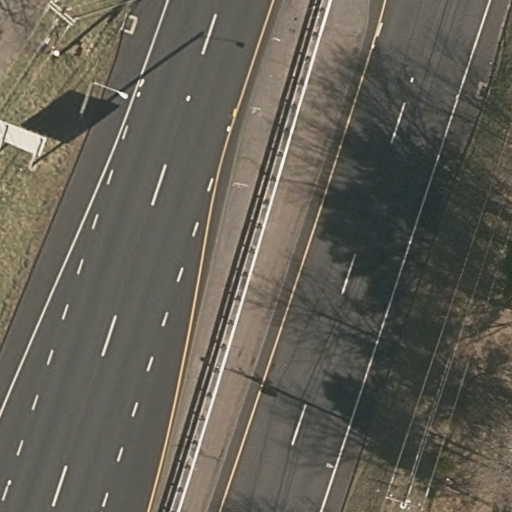DT: (32, 1, 116, 62), (367, 466, 438, 512)
